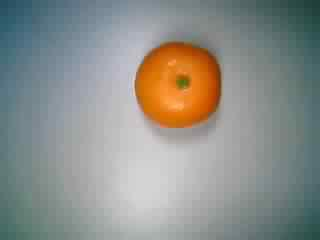orange: (128, 35, 223, 137)
